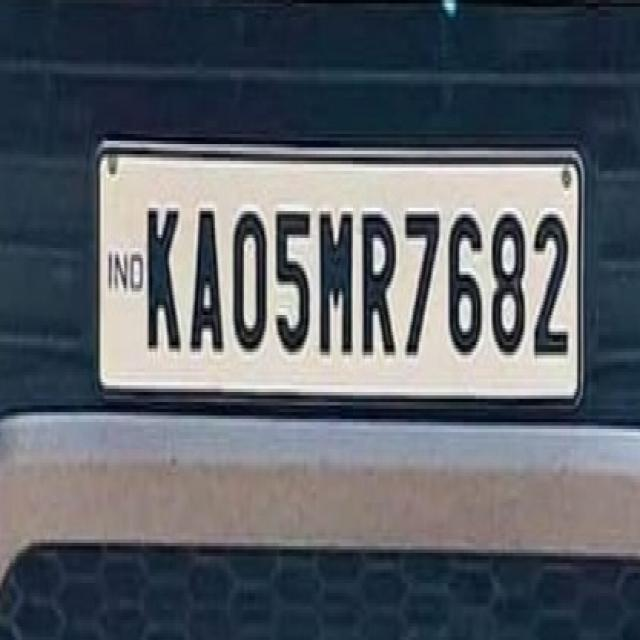0: (230, 203, 270, 356)
5: (271, 197, 314, 371)
6: (444, 203, 484, 358)
7: (401, 203, 440, 360)
8: (490, 201, 530, 365)
A: (185, 197, 226, 367)
K: (142, 198, 184, 360)
M: (316, 202, 356, 364)
R: (357, 202, 398, 370)
